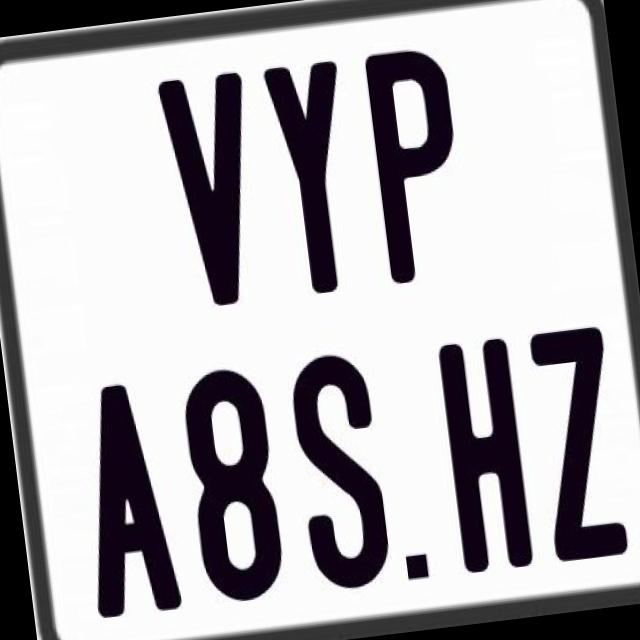8: (178, 361, 289, 601)
A: (66, 377, 184, 625)
H: (436, 332, 534, 568)
P: (363, 44, 472, 290)
S: (284, 347, 389, 589)
V: (154, 72, 268, 316)
Y: (262, 59, 364, 298)
Z: (526, 322, 626, 566)
